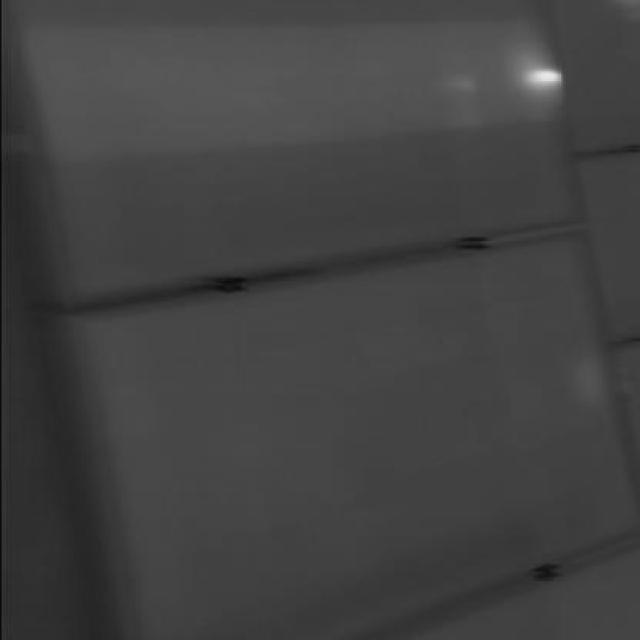hotspot: (518, 48, 567, 107)
